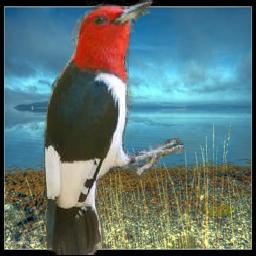Woodpecker: (42, 1, 185, 256)
